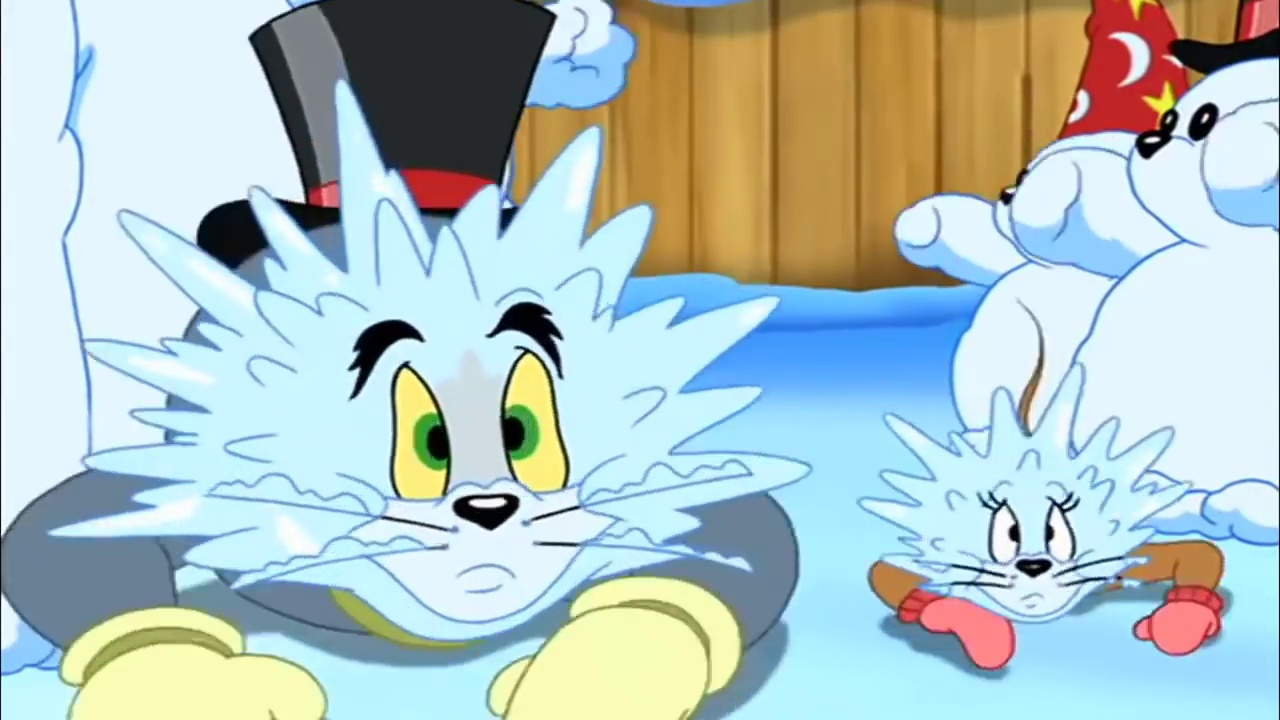face: (338, 291, 623, 625), (962, 478, 1112, 621)
